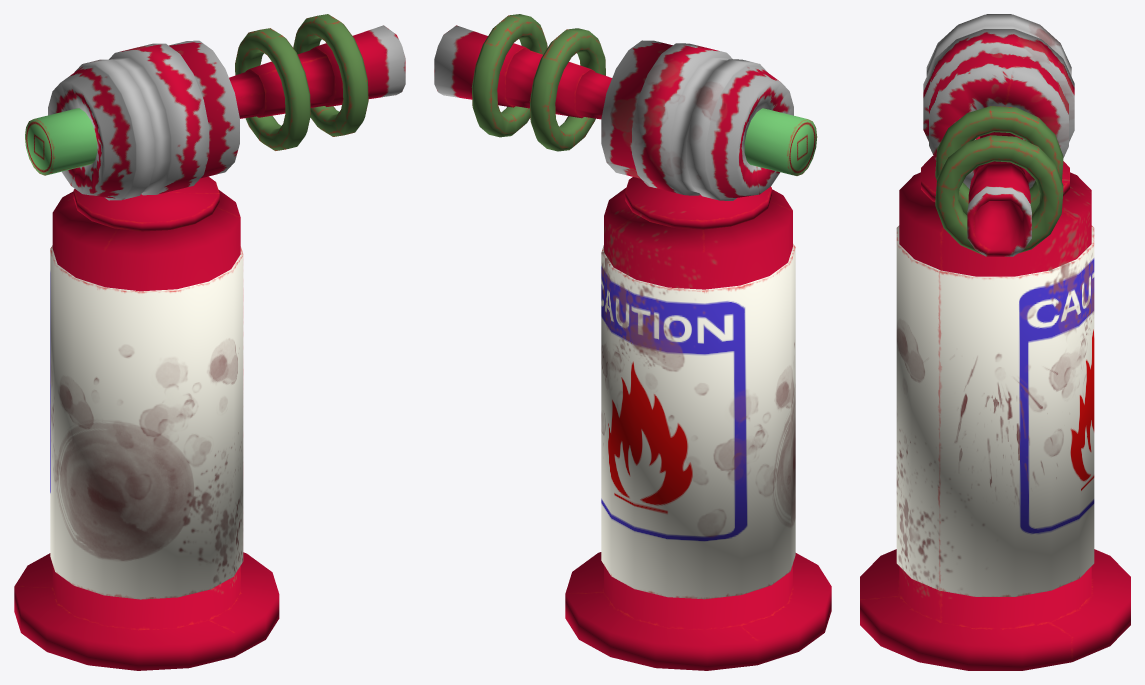
Rendered from Palnik.fbx.
The picture shows the model from 3 angles, left to right: view 1: azimuth 30°, elevation 25°; view 2: azimuth 150°, elevation 25°; view 3: azimuth 270°, elevation 25°; orthographic projection. The views are drawn at different scales.
Parts seen in each view (by area): view 1: Cylinder.027, Cylinder.028; view 2: Cylinder.027, Cylinder.028; view 3: Cylinder.027.
Part boxes in pixels (x1,y1,x2,y2): Cylinder.027: (14, 14, 405, 670); Cylinder.028: (25, 108, 97, 175); Cylinder.027: (434, 14, 831, 670); Cylinder.028: (744, 108, 817, 175); Cylinder.027: (860, 14, 1130, 670).
Size of the model in its own units: 48.14 by 71.66 by 30.32.
